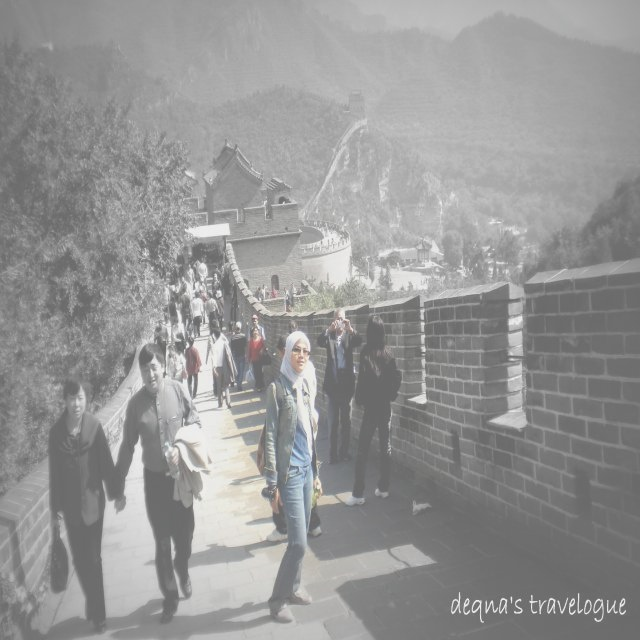pessoa: (110, 340, 213, 626), (47, 372, 128, 630), (261, 332, 324, 627), (342, 313, 406, 510), (8, 594, 277, 640), (141, 510, 278, 572), (316, 306, 364, 466), (264, 332, 291, 542), (208, 324, 238, 409), (204, 318, 230, 398), (300, 214, 348, 253), (247, 325, 267, 393), (230, 320, 248, 392), (184, 336, 202, 400), (153, 318, 170, 379), (223, 316, 238, 374), (166, 344, 186, 384), (180, 286, 194, 340), (204, 290, 220, 336), (191, 290, 205, 340), (167, 294, 180, 344), (171, 316, 187, 355), (248, 314, 266, 346), (162, 279, 174, 322), (196, 284, 208, 326), (184, 262, 196, 300), (196, 256, 208, 294), (214, 289, 224, 332), (198, 276, 208, 319), (229, 280, 238, 326), (194, 245, 218, 261), (162, 284, 171, 326), (172, 281, 182, 313), (218, 263, 226, 296), (178, 274, 190, 296), (192, 274, 200, 305), (212, 272, 222, 296), (284, 319, 298, 336), (176, 250, 184, 278), (212, 262, 222, 281), (282, 286, 289, 312), (194, 258, 202, 276), (264, 195, 270, 219), (289, 282, 297, 297), (270, 284, 278, 298), (224, 258, 230, 276), (260, 284, 266, 300), (254, 286, 260, 302), (175, 276, 181, 292), (188, 252, 193, 269), (256, 286, 262, 300), (296, 288, 306, 296), (264, 287, 270, 300), (420, 276, 428, 285), (255, 294, 262, 304), (396, 262, 400, 274), (418, 256, 424, 264)
